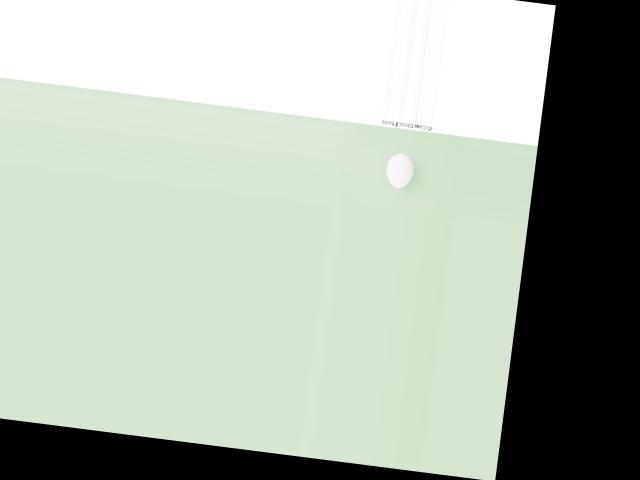egg: (384, 151, 415, 189)
